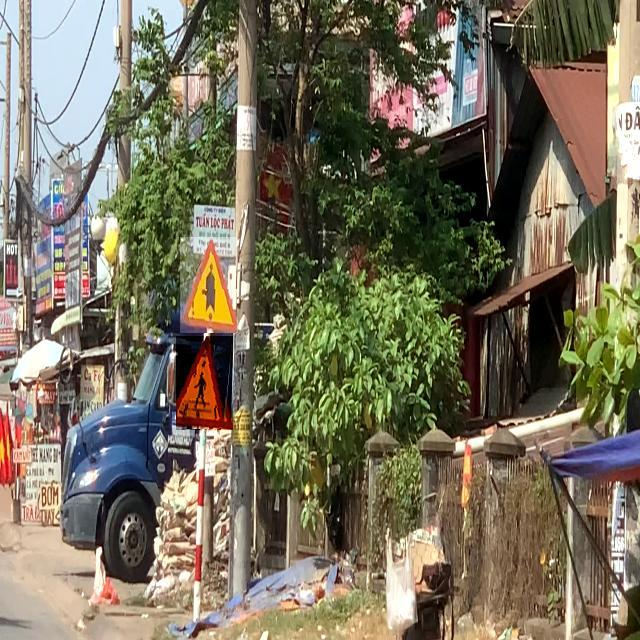W-207c: (180, 237, 237, 333)
W-224: (176, 336, 233, 430)
